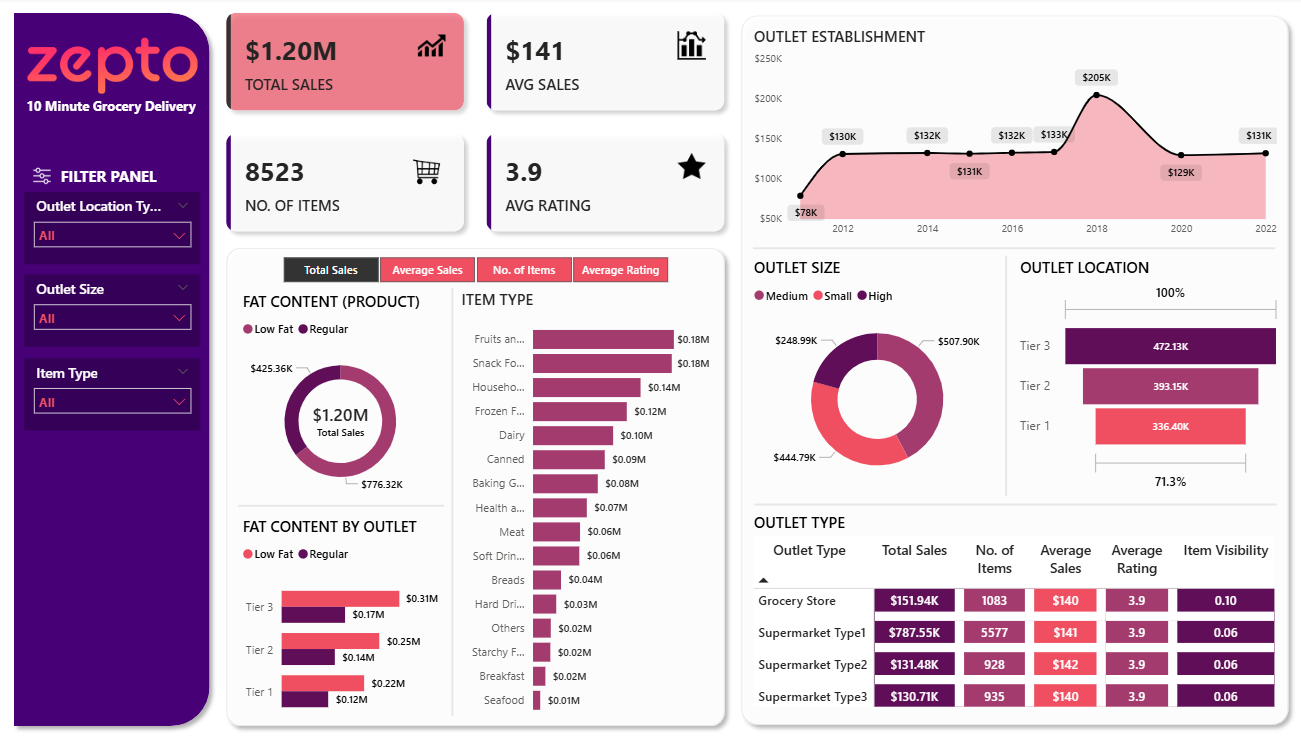

This screenshot's page, from the dashboard's own definition file:
{"tool":"powerbi","page":{"name":"Page 1","canvas":[1400,800],"ordinal":0},"visuals":[{"type":"shape","box":[8,8,227.9,782.8],"z":0},{"type":"textbox","box":[20.1,101.9,202.4,67],"z":1000},{"type":"image","box":[22.8,38.9,199.7,69.7],"z":2000},{"type":"cardVisual","fields":{"Data":["BlinkIT Grocery Data.Total Sales","BlinkIT Grocery Data.Average Sales","BlinkIT Grocery Data.No. of Items","BlinkIT Grocery Data.Average Rating"]},"box":[228.2,0,569.7,269.4],"z":3000},{"type":"shape","box":[236.3,260.1,552.3,530.8],"z":4000},{"type":"donutChart","title":"FAT CONTENT (PRODUCT)","fields":{"Y":["BlinkIT Grocery Data.Total Sales"],"Category":["BlinkIT Grocery Data.Item Fat Content"]},"box":[257.4,315,219.8,230.6],"z":5000},{"type":"slicer","fields":{"Values":["Metrics.Metrics"]},"box":[280.5,272.1,462.5,40.2],"z":6000},{"type":"cardVisual","fields":{"Data":["BlinkIT Grocery Data.Total Sales"]},"box":[307,399.5,122,109.9],"z":7000},{"type":"clusteredBarChart","title":"FAT CONTENT BY OUTLET","fields":{"Y":["BlinkIT Grocery Data.Total Sales"],"Category":["BlinkIT Grocery Data.Outlet Location Type"],"Series":["BlinkIT Grocery Data.Item Fat Content"]},"box":[257.4,556.3,219.8,230.6],"z":8000},{"type":"shape","box":[257.4,526.8,221.2,37.5],"z":9000},{"type":"shape","box":[452.1,312.3,71,458.4],"z":10000},{"type":"barChart","title":"ITEM TYPE","fields":{"Y":["BlinkIT Grocery Data.Total Sales"],"Category":["BlinkIT Grocery Data.Item Type"]},"box":[492.3,312.3,276.1,467.8],"z":11000},{"type":"shape","box":[788.5,10.7,604.6,778.8],"z":12000},{"type":"lineChart","title":"OUTLET ESTABLISHMENT","fields":{"Y":["BlinkIT Grocery Data.Total Sales"],"Category":["BlinkIT Grocery Data.Outlet Establishment Year"]},"box":[805.6,30.8,571,234.6],"z":13000},{"type":"shape","box":[810,250.7,560.3,37.5],"z":14000},{"type":"donutChart","title":"OUTLET SIZE","fields":{"Y":["BlinkIT Grocery Data.Total Sales"],"Category":["BlinkIT Grocery Data.Outlet Size"]},"box":[805.6,278.8,274.8,256],"z":15000},{"type":"shape","box":[1045.9,277.5,71,257.4],"z":16000},{"type":"funnel","title":"OUTLET LOCATION","fields":{"Y":["Sum(BlinkIT Grocery Data.Sales)"],"Category":["BlinkIT Grocery Data.Outlet Location Type"]},"box":[1091.2,278.8,289.5,256],"z":17000},{"type":"shape","box":[811.3,525.5,560.3,37.5],"z":18000},{"type":"pivotTable","title":"OUTLET TYPE","fields":{"Rows":["BlinkIT Grocery Data.Outlet Type"],"Values":["BlinkIT Grocery Data.Total Sales","BlinkIT Grocery Data.No. of Items","BlinkIT Grocery Data.Average Sales","BlinkIT Grocery Data.Average Rating","Avg(BlinkIT Grocery Data.Item Visibility)"]},"box":[805.6,552.3,571,221.2],"z":19000},{"type":"slicer","fields":{"Values":["BlinkIT Grocery Data.Outlet Location Type"]},"box":[28.2,209.5,189,77.7],"z":20000},{"type":"slicer","fields":{"Values":["BlinkIT Grocery Data.Outlet Size"]},"box":[28.2,297.9,189,77.7],"z":21000},{"type":"slicer","fields":{"Values":["BlinkIT Grocery Data.Item Type"]},"box":[28.2,387.7,189,77.7],"z":22000},{"type":"textbox","box":[57.6,175.6,122,34.9],"z":22001},{"type":"image","box":[28.2,175.6,40.2,33.5],"z":22002}]}

Visuals, with their boxes in screenshot pixels (x1, y1, x2, y2), scaled from the page's 1400x800 canvas onto the 1301x738 screenshot:
shape: (7, 7, 219, 730)
textbox: (19, 94, 207, 156)
image: (21, 36, 207, 100)
cardVisual - BlinkIT Grocery Data.Total Sales x BlinkIT Grocery Data.Average Sales: (212, 0, 741, 249)
shape: (220, 240, 733, 730)
"FAT CONTENT (PRODUCT)" donutChart: (239, 291, 443, 503)
slicer - Metrics.Metrics: (261, 251, 690, 288)
cardVisual - BlinkIT Grocery Data.Total Sales: (285, 369, 399, 470)
"FAT CONTENT BY OUTLET" clusteredBarChart: (239, 513, 443, 726)
shape: (239, 486, 445, 521)
shape: (420, 288, 486, 711)
"ITEM TYPE" barChart: (457, 288, 714, 720)
shape: (733, 10, 1295, 728)
"OUTLET ESTABLISHMENT" lineChart: (749, 28, 1279, 245)
shape: (753, 231, 1273, 266)
"OUTLET SIZE" donutChart: (749, 257, 1004, 493)
shape: (972, 256, 1038, 493)
"OUTLET LOCATION" funnel: (1014, 257, 1283, 493)
shape: (754, 485, 1275, 519)
"OUTLET TYPE" pivotTable: (749, 509, 1279, 714)
slicer - BlinkIT Grocery Data.Outlet Location Type: (26, 193, 202, 265)
slicer - BlinkIT Grocery Data.Outlet Size: (26, 275, 202, 346)
slicer - BlinkIT Grocery Data.Item Type: (26, 358, 202, 429)
textbox: (54, 162, 167, 194)
image: (26, 162, 64, 193)
